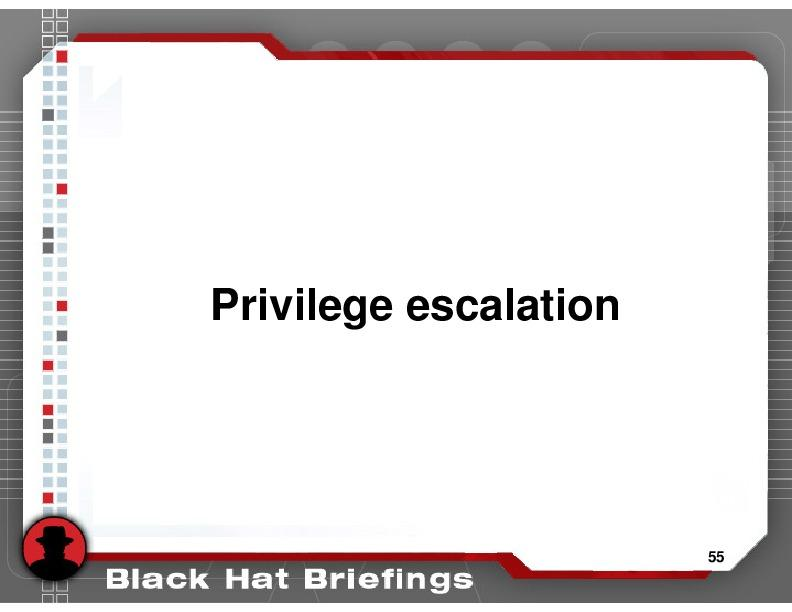subtitle: (97, 561, 484, 600)
title: (207, 276, 627, 336)
